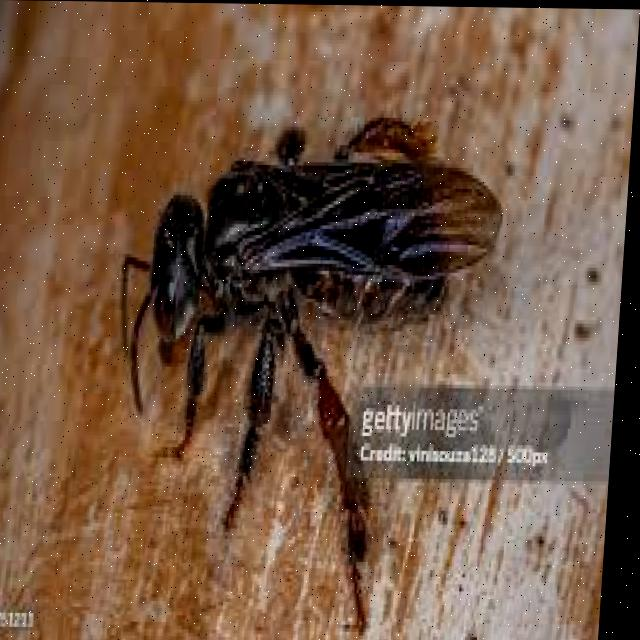Meliponula: (97, 111, 570, 530)
